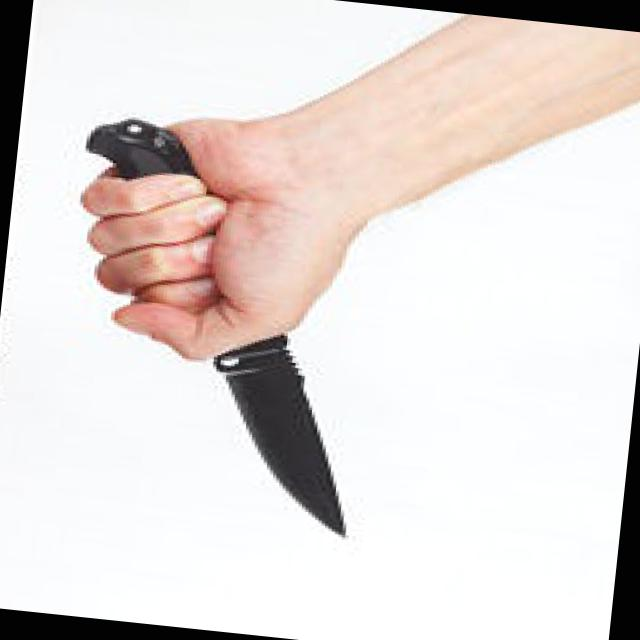knife: (88, 199, 398, 546)
